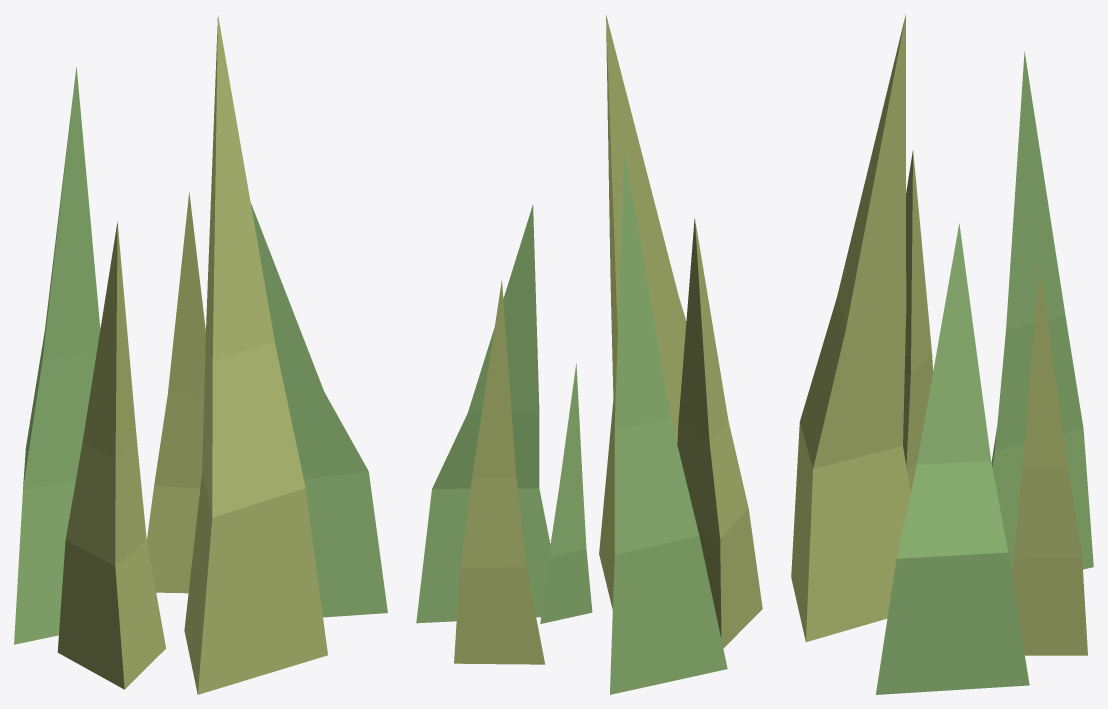
The model's file is Grass2.fbx.
The picture shows the model from 3 angles, left to right: view 1: azimuth 30°, elevation 25°; view 2: azimuth 150°, elevation 25°; view 3: azimuth 270°, elevation 25°; orthographic projection. The views are drawn at different scales.
Parts seen in each view (by area): view 1: Grass2; view 2: Grass2; view 3: Grass2.
Part boxes in pixels (x1,y1,x2,y2): Grass2: [14, 15, 387, 694]; Grass2: [416, 15, 762, 694]; Grass2: [791, 14, 1093, 694].
Size of the model in its own units: 32.65 by 61.33 by 27.5.
